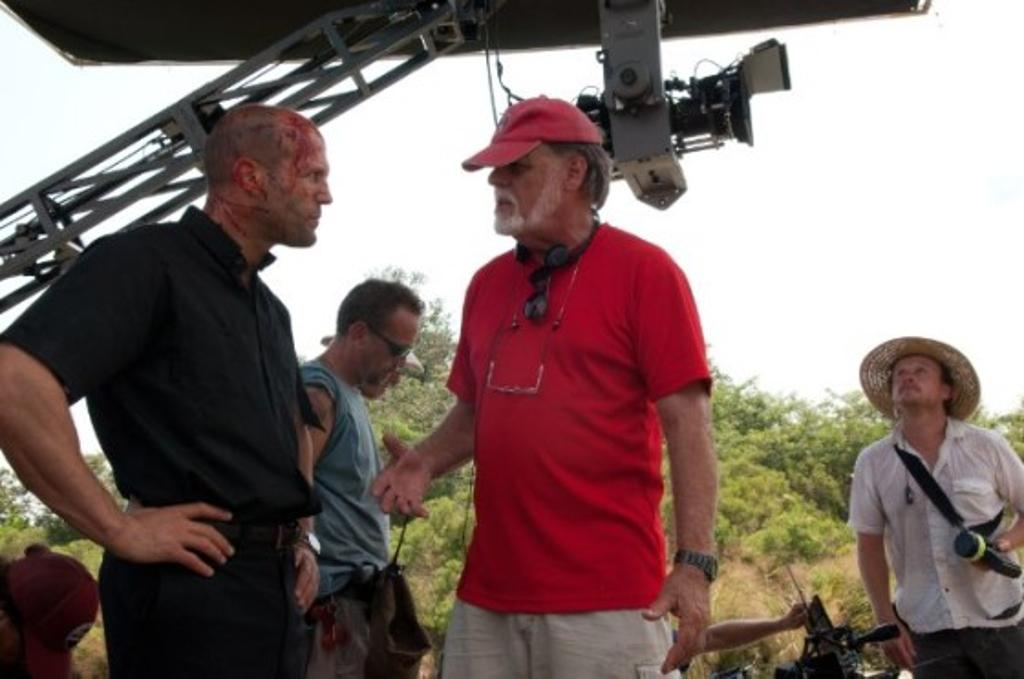face: (259, 123, 333, 246), (487, 137, 563, 233), (361, 310, 418, 385), (892, 358, 938, 401), (362, 363, 403, 399)
